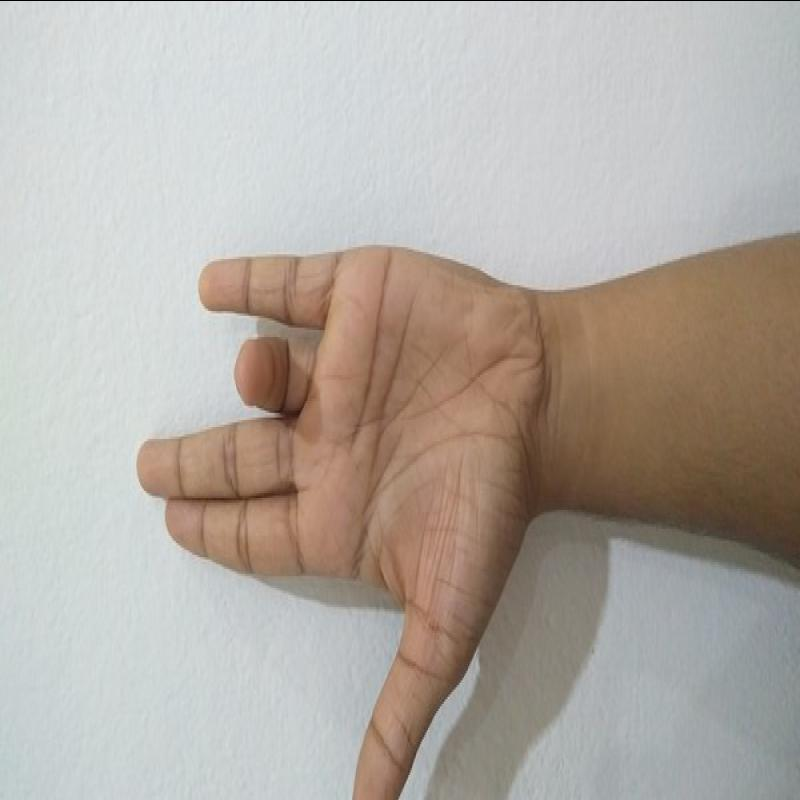Pathaaka: (129, 237, 556, 800)
